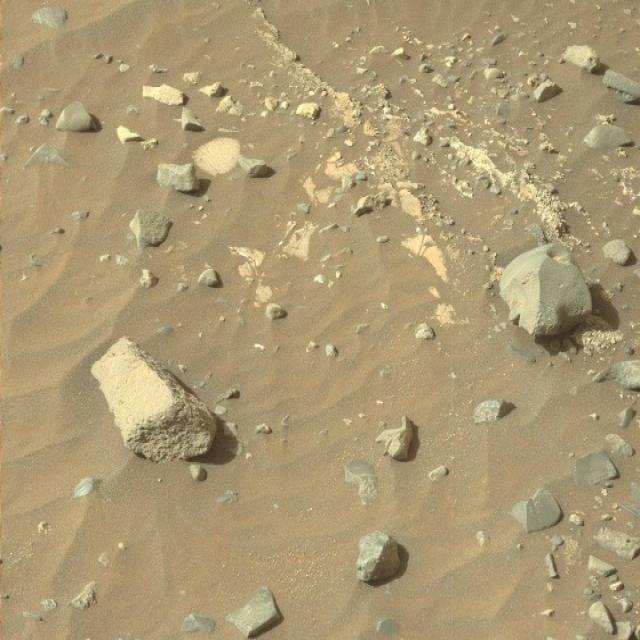mars-rocks: (91, 338, 215, 463), (500, 244, 593, 336), (226, 588, 283, 639), (357, 532, 401, 584), (512, 490, 563, 534), (377, 417, 420, 462), (193, 137, 241, 176), (129, 209, 172, 247), (604, 69, 640, 104), (156, 163, 199, 192), (55, 101, 95, 130)
